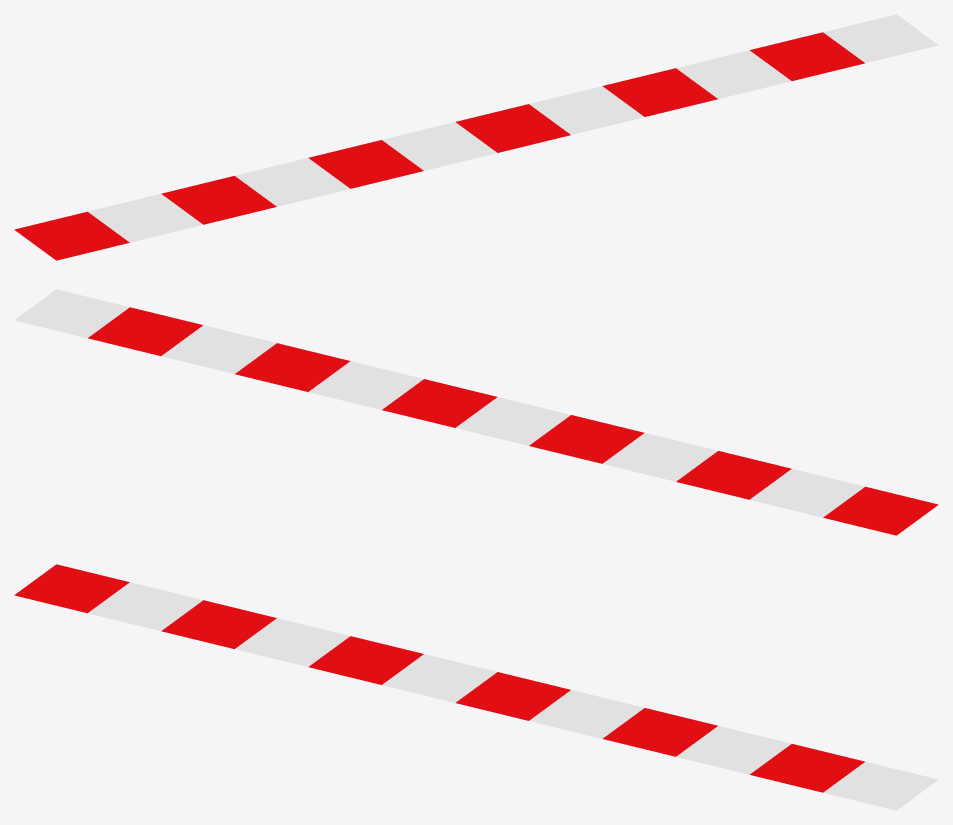
The model's file is redline_short.dae.
3 views of the same model, one above another, from view 1: azimuth 30°, elevation 25°; view 2: azimuth 150°, elevation 25°; view 3: azimuth 330°, elevation 25° (orthographic).
Visible parts, largest first — view 1: Plane.010, Plane; view 2: Plane, Plane.010; view 3: Plane, Plane.010.
Part boxes in pixels (left/top/right/bottom): Plane.010: left=14, top=32, right=864, bottom=260; Plane: left=88, top=14, right=938, bottom=242; Plane: left=14, top=289, right=864, bottom=517; Plane.010: left=88, top=307, right=938, bottom=535; Plane: left=88, top=582, right=938, bottom=810; Plane.010: left=14, top=564, right=864, bottom=792.
Size of the model in its own units: 0.6 by 0.05 by 0.
